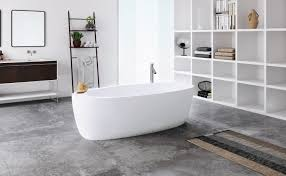bathub: (68, 78, 202, 140)
